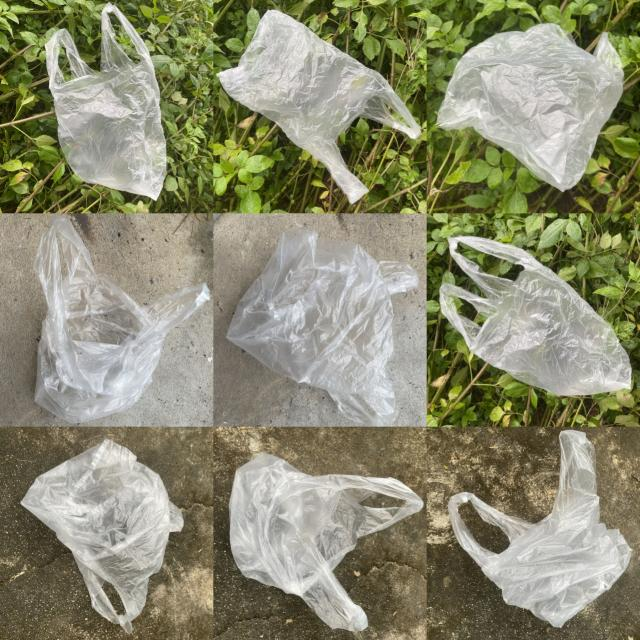Single-layer Plastic: (218, 10, 421, 203), (228, 229, 419, 426), (34, 215, 210, 422), (449, 430, 631, 628), (229, 452, 422, 631), (21, 439, 184, 634), (438, 24, 624, 191), (440, 236, 631, 396), (45, 4, 166, 199)
